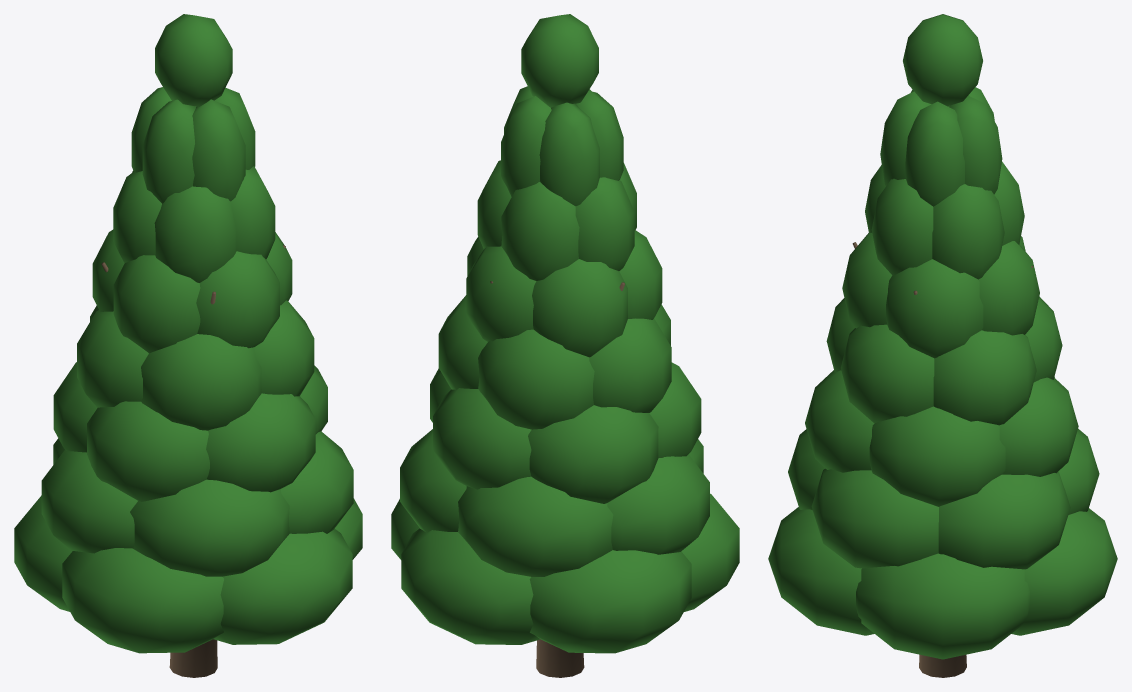
Rendered from Pine0.glb.
3 renders of one model, left to right at view 1: azimuth 30°, elevation 25°; view 2: azimuth 150°, elevation 25°; view 3: azimuth 270°, elevation 25°, orthographic.
Visible parts, largest first — view 1: Pine0; view 2: Pine0; view 3: Pine0.
Part boxes in pixels (bbox=[...]): Pine0: bbox=[14, 14, 362, 677]; Pine0: bbox=[391, 14, 739, 677]; Pine0: bbox=[768, 14, 1117, 677].
Bounding box in the file's own units: 4.46 × 9.3 × 4.52.
